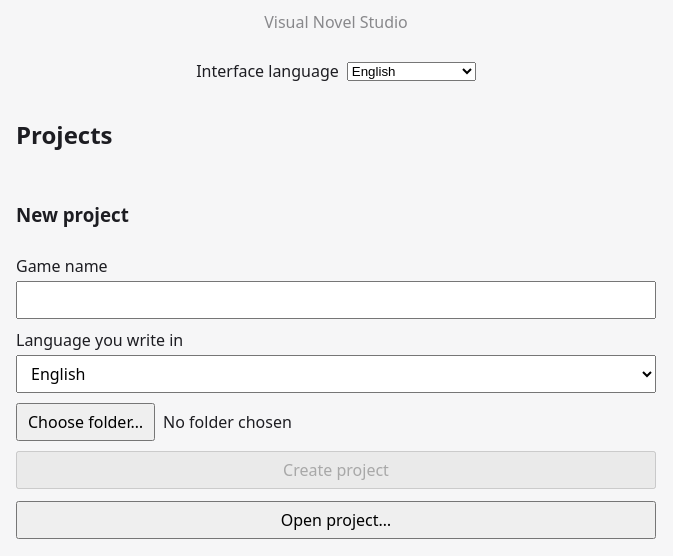
Test: Project Manager na janela › abre um projeto existente pelo seletor de pasta
This screenshot has width=673, height=556.
What coordinates should you click on to do the following:
click the button "Open project…"
I would click on:
 (336, 520)
Its box is [16,501,656,539].
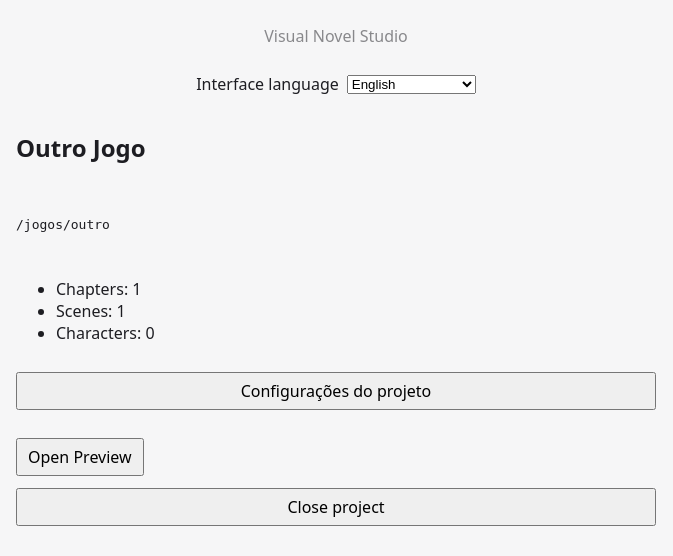
Check: the heading "Outro Jogo" is shown, box [16,131,146,164]
